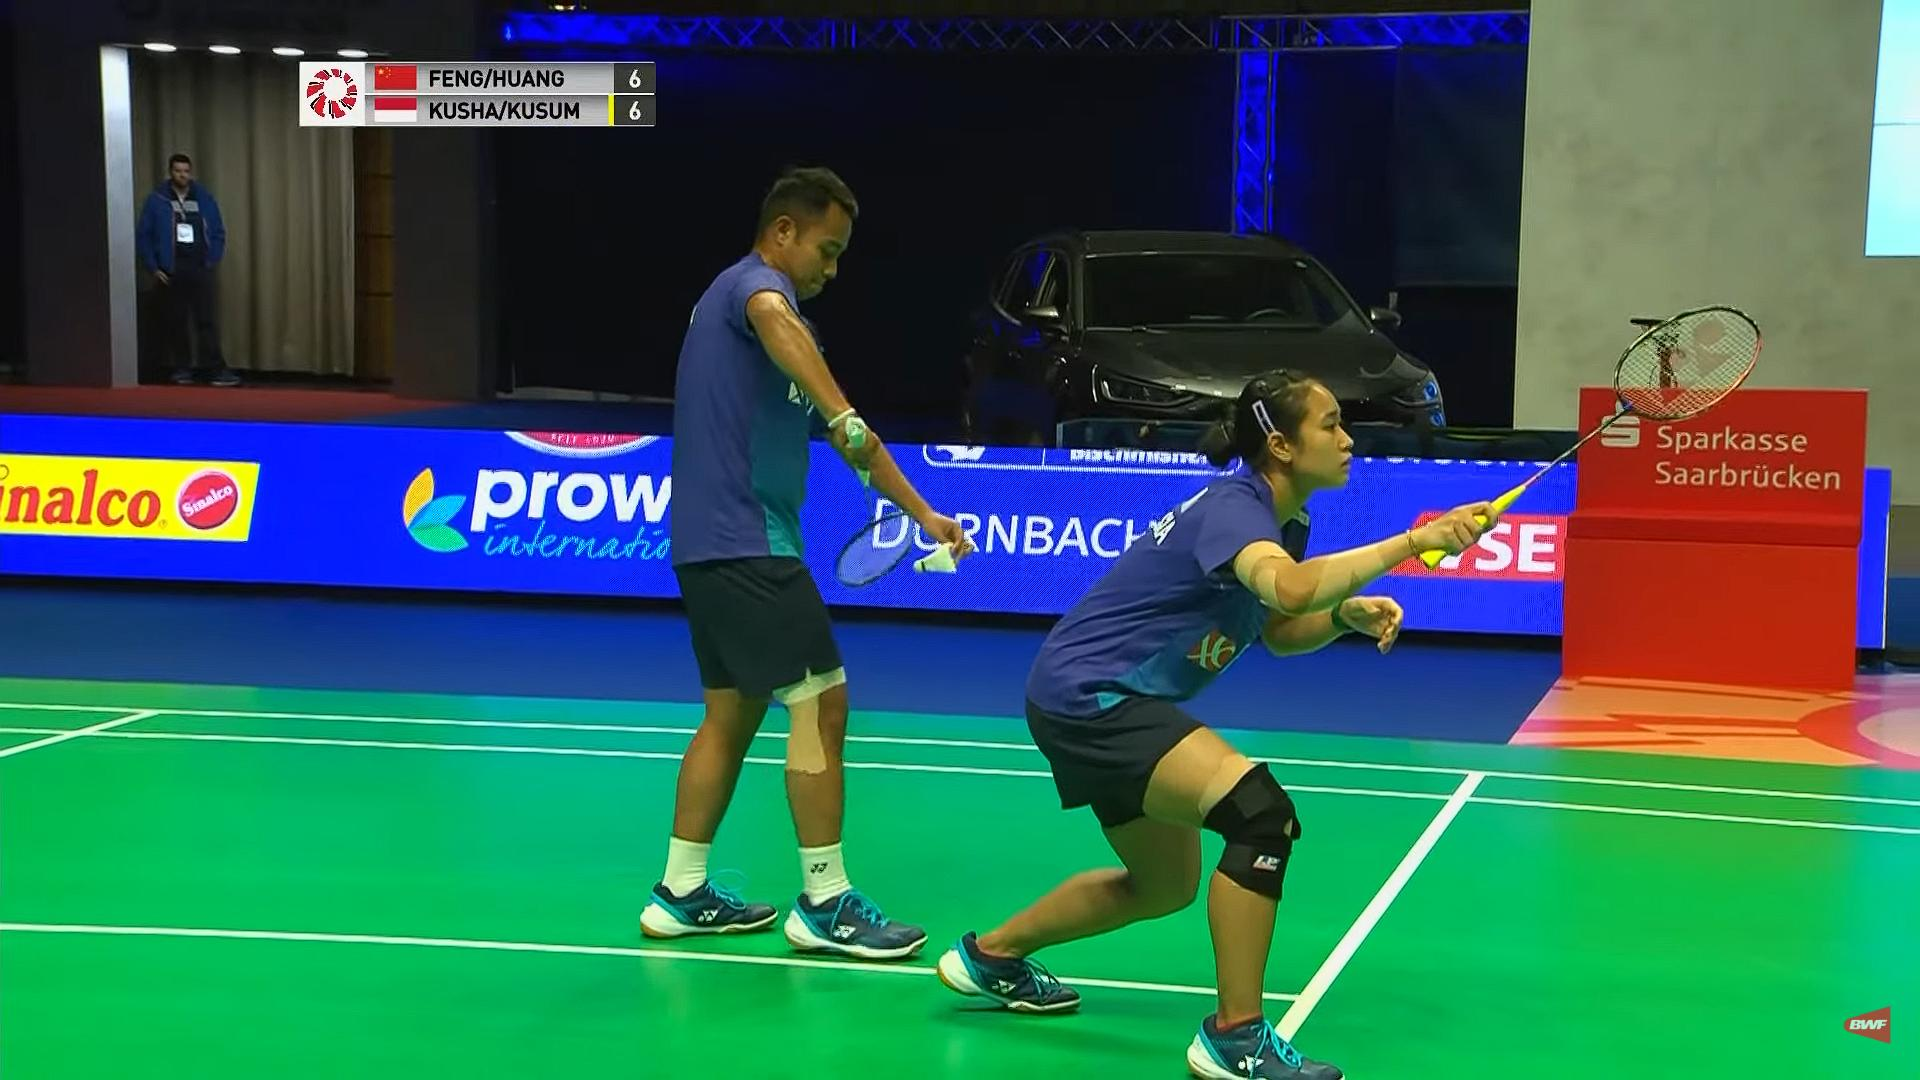racket: (1601, 289, 1782, 435), (831, 495, 948, 605)
shuttle: (903, 534, 964, 588)
